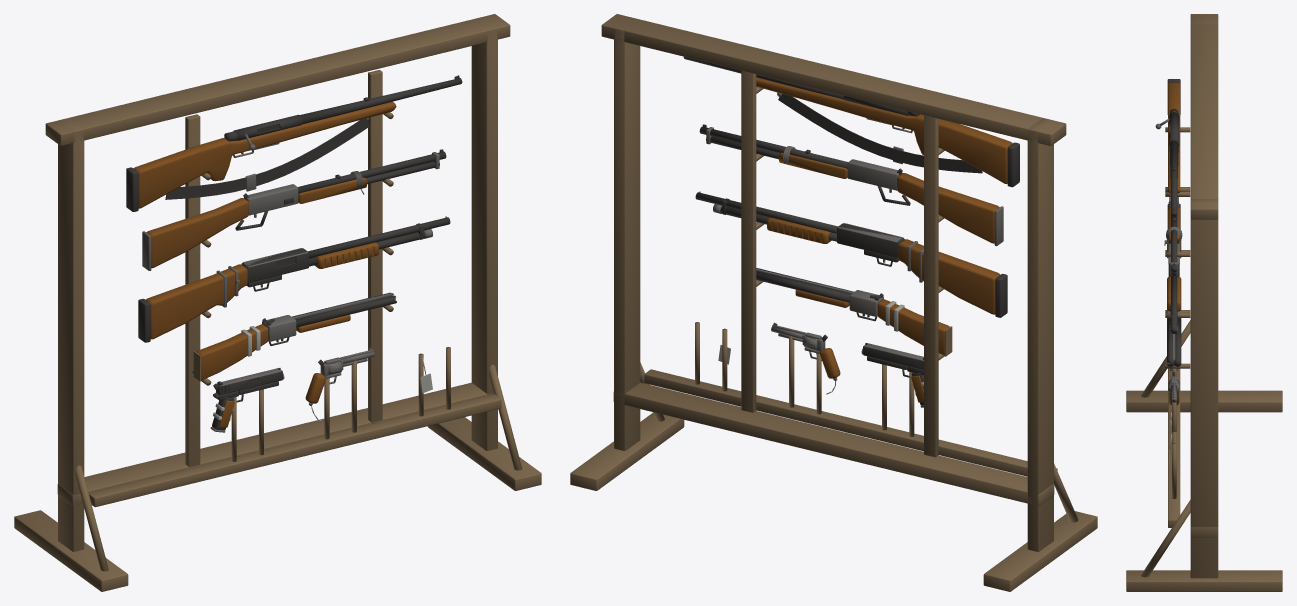
The model's file is gun_rack.glb.
3 views of the same model, side by side, from view 1: azimuth 30°, elevation 25°; view 2: azimuth 150°, elevation 25°; view 3: azimuth 270°, elevation 25° (orthographic). The views are drawn at different scales.
Parts seen in each view (by area): view 1: top_rail, post_0, post_2, pistol_rail, bottom_rail, stock, slat_2, slat_0, stock.002, foot_0, stock.001, foot_2 (+12 smaller); view 2: top_rail, bottom_rail, post_0, post_2, pistol_rail, slat_2, slat_0, stock, foot_0, foot_2, stock.002, stock.001 (+8 smaller); view 3: post_2, top_rail, foot_2, foot_0, pistol_rail, stock, brace_2, barrel, brace_0, barrel.002, barrel.001, receiver (+5 smaller).
Part boxes in pixels (x1,y1,x2,y2): top_rail: (45, 14, 510, 145); post_0: (58, 118, 84, 551); post_2: (471, 17, 497, 450); pistol_rail: (88, 394, 501, 507); bottom_rail: (57, 382, 493, 505); stock: (133, 101, 396, 208); slat_2: (368, 70, 382, 423); slat_0: (185, 114, 200, 467); stock.002: (145, 264, 247, 339); foot_0: (14, 510, 128, 591); stock.001: (146, 198, 248, 268); foot_2: (427, 417, 541, 490); top_rail: (601, 14, 1066, 145); bottom_rail: (613, 382, 1054, 505); post_0: (1027, 118, 1053, 551); post_2: (614, 17, 640, 450); pistol_rail: (644, 369, 1057, 476); slat_2: (741, 70, 756, 412); slat_0: (924, 115, 938, 457); stock: (756, 77, 1012, 183); foot_0: (983, 511, 1097, 591); foot_2: (570, 413, 684, 490); stock.002: (898, 239, 1000, 314); stock.001: (897, 173, 999, 243); post_2: (1190, 199, 1218, 578); top_rail: (1190, 14, 1218, 219); foot_2: (1126, 570, 1282, 591); foot_0: (1126, 390, 1282, 412); pistol_rail: (1168, 368, 1180, 527); stock: (1168, 82, 1180, 193); brace_2: (1140, 500, 1190, 577); barrel: (1169, 140, 1178, 216); brace_0: (1141, 320, 1190, 397); barrel.002: (1171, 276, 1177, 333); barrel.001: (1171, 204, 1177, 272); receiver: (1169, 112, 1179, 145).
Size of the model in its own units: 1.48 by 1.36 by 0.5.
